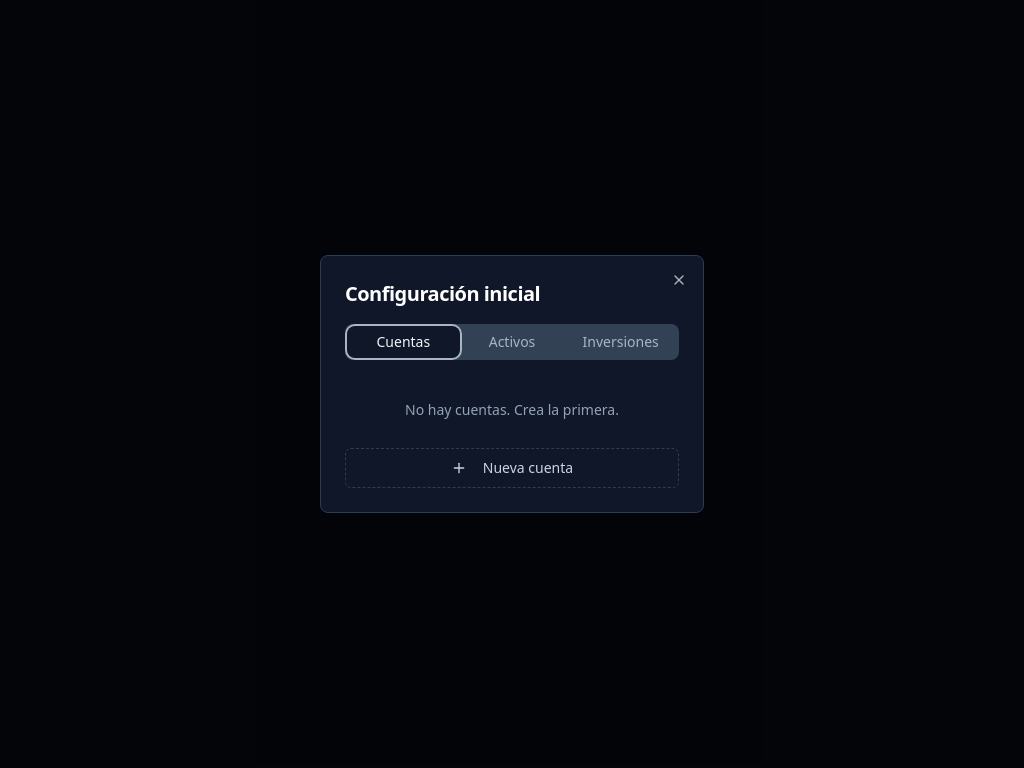
Test: AccountsModal – Assets tab › cancels asset delete on cancel click
Click the tab "Activos" at (512, 342), box [458, 328, 566, 356]
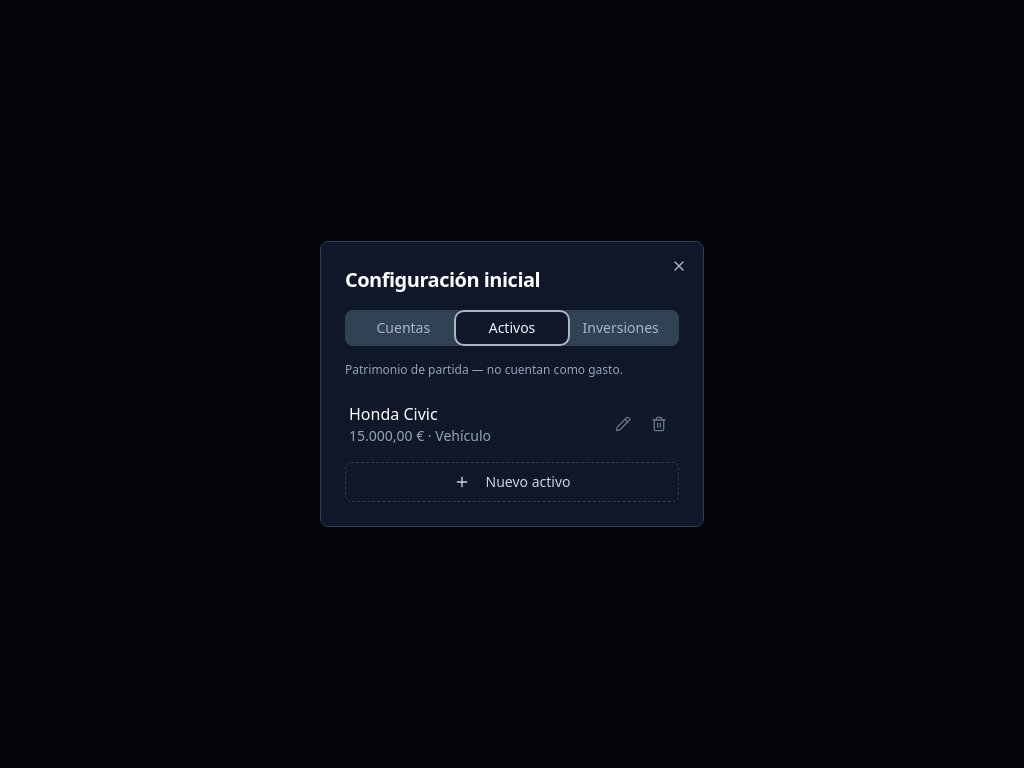
Click the button named "Eliminar Honda Civic" at (659, 424), box [643, 408, 675, 440]
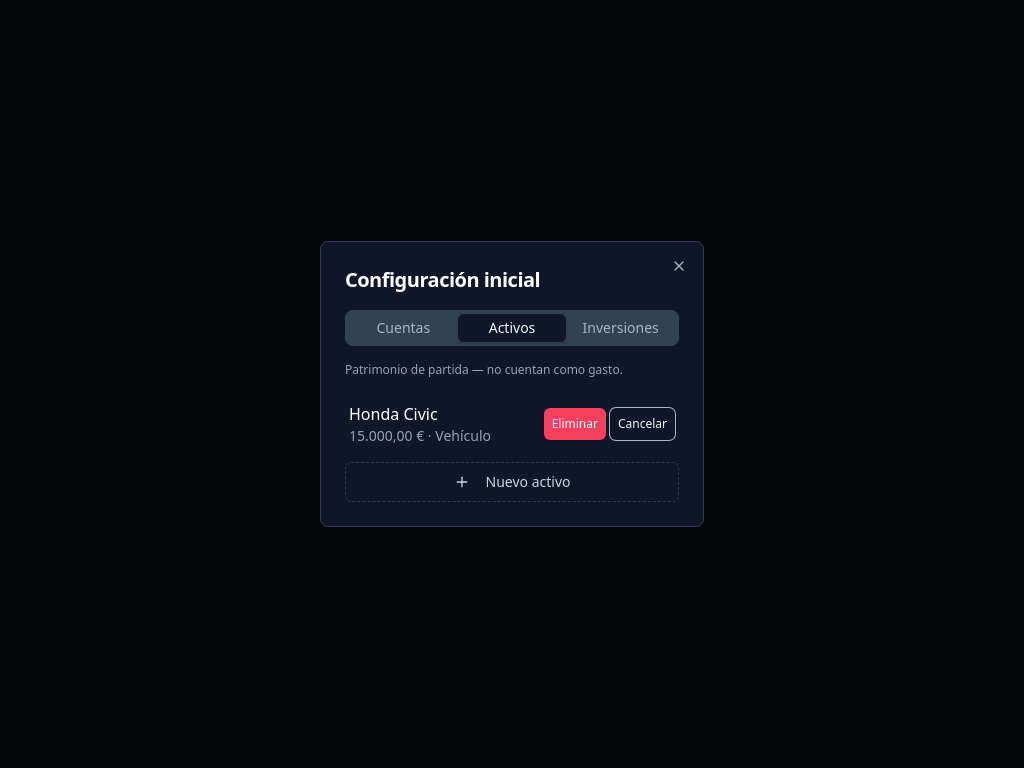
Expected: the button with aria-label "Confirmar eliminación de Honda Civic" is shown, [544, 408, 606, 440]
Click the button "Cancelar" at (642, 424), box [610, 408, 675, 440]
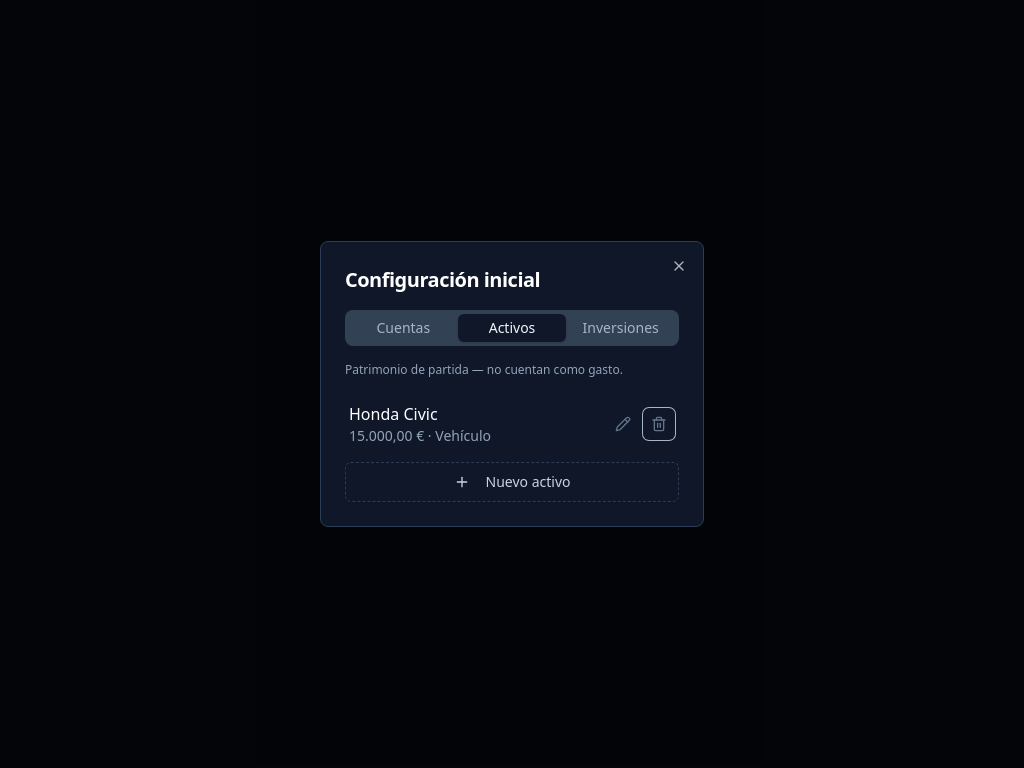
Expected: the button named "Eliminar Honda Civic" is shown, [643, 408, 675, 440]
